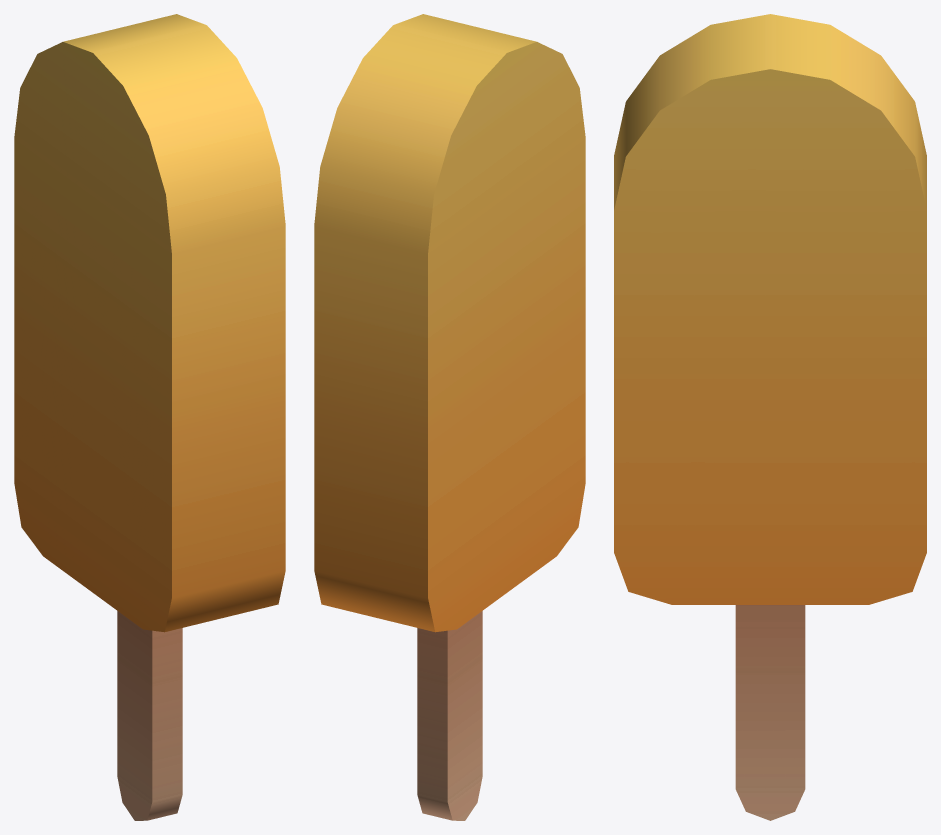
The model's file is popsicle.glb.
The picture shows the model from 3 angles, left to right: view 1: azimuth 30°, elevation 25°; view 2: azimuth 150°, elevation 25°; view 3: azimuth 270°, elevation 25°; orthographic projection.
Parts seen in each view (by area): view 1: popsicle; view 2: popsicle; view 3: popsicle.
Boxes of the visible parts, box(x1,y1,x2,y2) form: popsicle: box(14, 14, 285, 820); popsicle: box(314, 14, 585, 820); popsicle: box(614, 14, 926, 820).
Size of the model in its own units: 0.075 by 0.49 by 0.18.
1 material, 1 textured.
